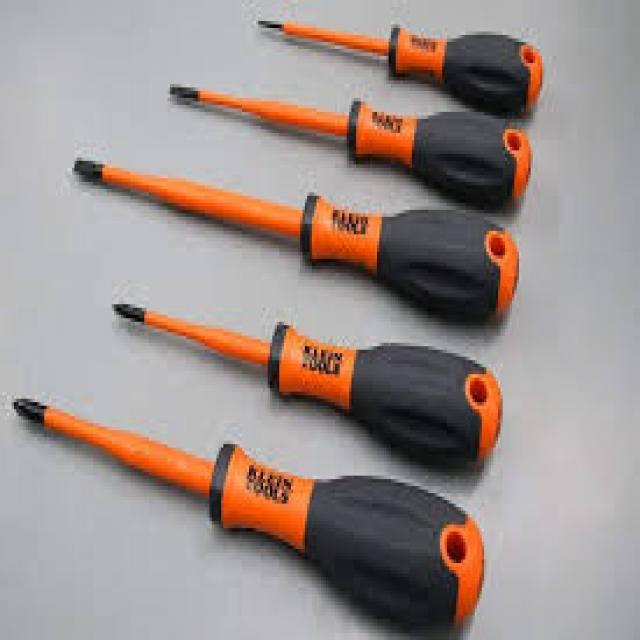screwdriver: (11, 396, 488, 636), (72, 156, 524, 327), (109, 294, 503, 476), (168, 78, 530, 204), (252, 11, 542, 122)
